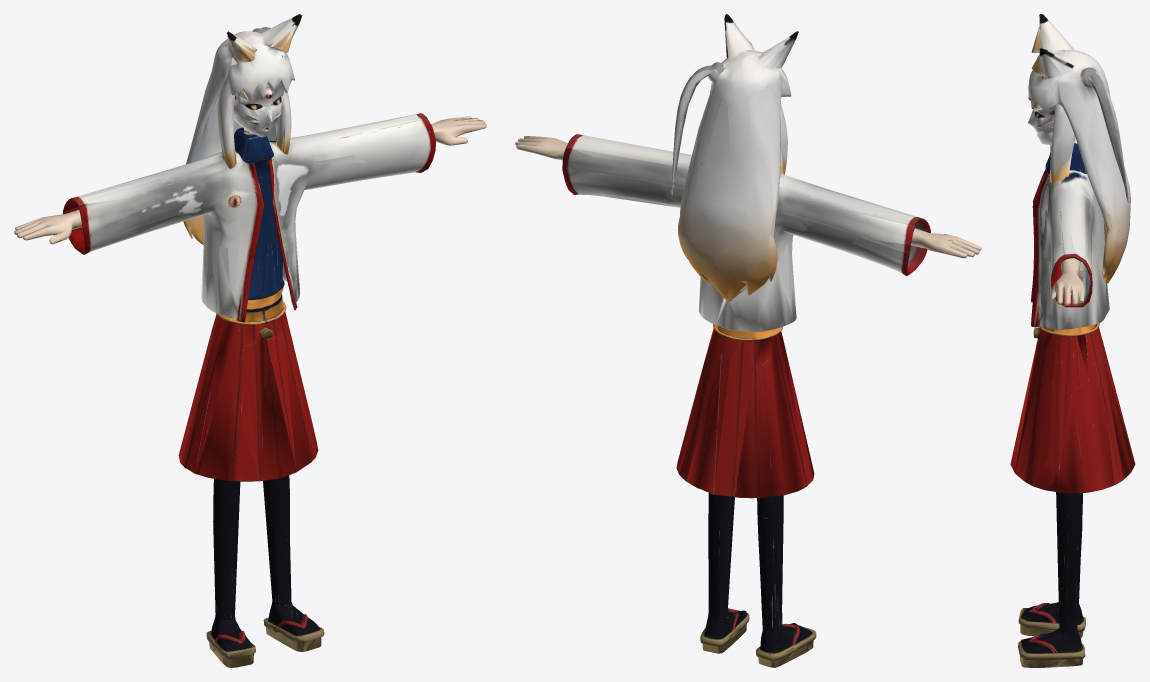
The model's file is kitsune-mesh.glb.
The picture shows the model from 3 angles, left to right: view 1: azimuth 30°, elevation 25°; view 2: azimuth 150°, elevation 25°; view 3: azimuth 270°, elevation 25°; orthographic projection. The views are drawn at different scales.
Visible parts, largest first — view 1: Mesh_0; view 2: Mesh_0; view 3: Mesh_0.
Boxes of the visible parts, x1=… form: Mesh_0: x1=14, y1=14, x2=486, y2=667; Mesh_0: x1=515, y1=14, x2=981, y2=667; Mesh_0: x1=1010, y1=14, x2=1135, y2=667.
Size of the model in its own units: 1.28 by 1.65 by 0.3037.
1 material, 1 textured.
